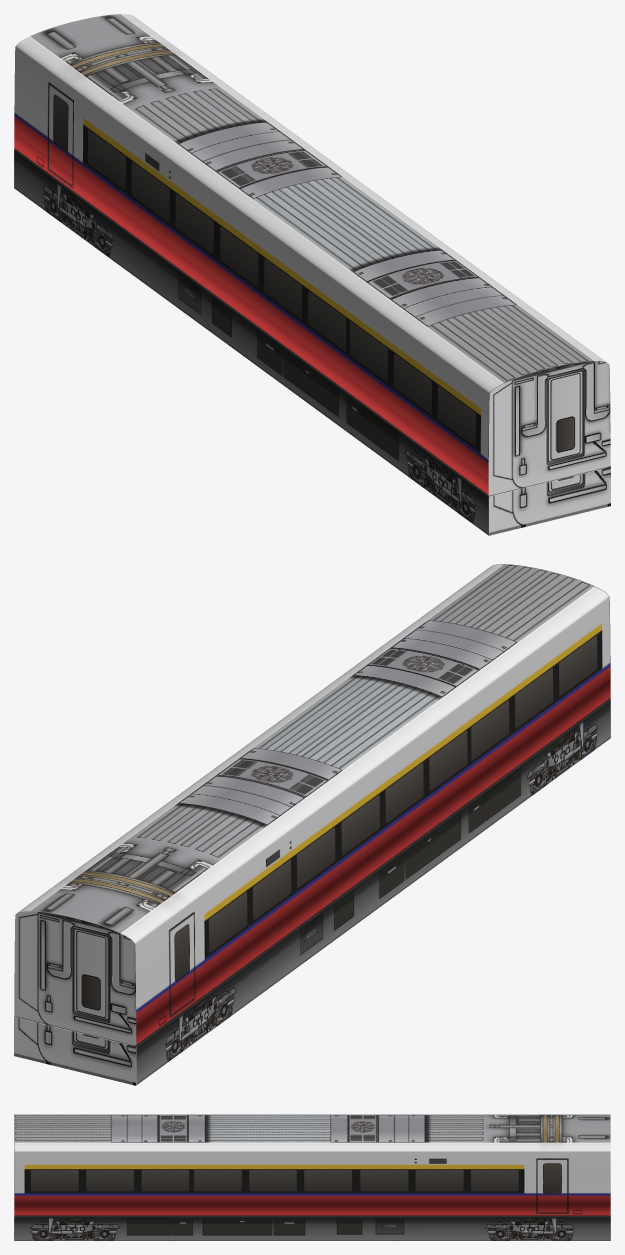
File: car2.glb
3 renders of one model, top to bottom at view 1: azimuth 30°, elevation 25°; view 2: azimuth 150°, elevation 25°; view 3: azimuth 270°, elevation 25°, orthographic. The views are drawn at different scales.
Parts seen in each view (by area): view 1: jr-east-e751-car2; view 2: jr-east-e751-car2; view 3: jr-east-e751-car2.
Part boxes in pixels (box(x1,y1,x2,y2)): jr-east-e751-car2: box(14, 14, 610, 535); jr-east-e751-car2: box(14, 564, 610, 1085); jr-east-e751-car2: box(14, 1114, 610, 1240).
Bounding box in the file's own units: 2.98 × 3.55 × 20.07.
Materials: 8 (7 with a texture image).
